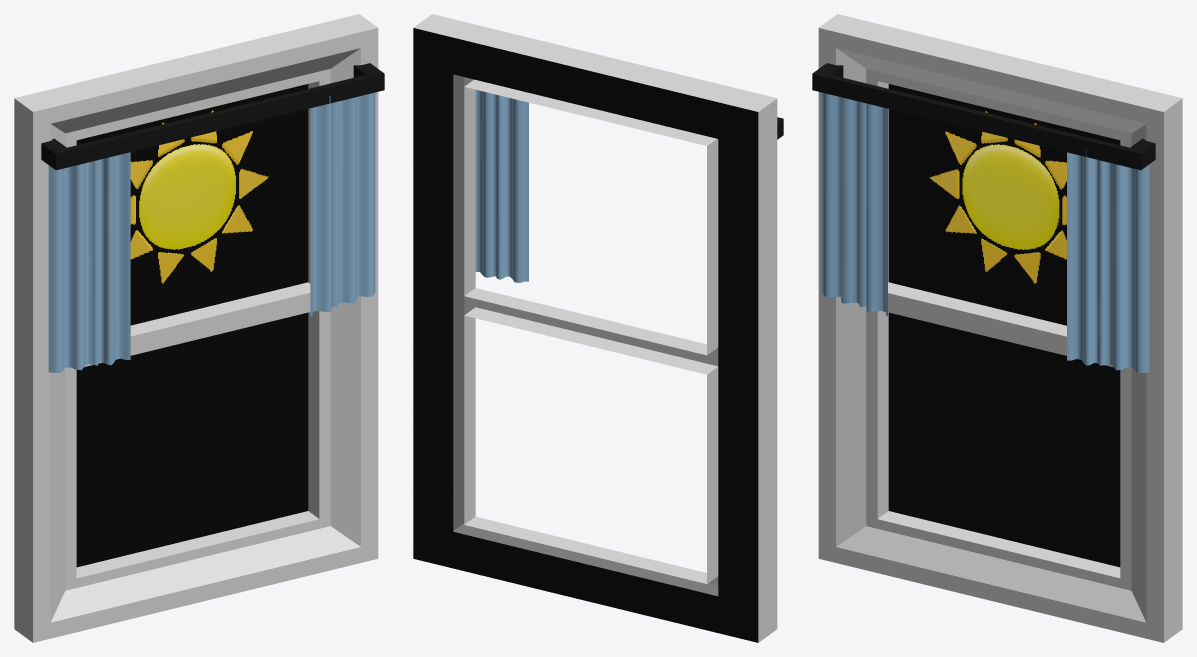
File: window-day-clear.glb
3 views of the same model, side by side, from view 1: azimuth 30°, elevation 25°; view 2: azimuth 150°, elevation 25°; view 3: azimuth 330°, elevation 25° (orthographic).
Parts seen in each view (by area): view 1: Cube; view 2: Cube; view 3: Cube.
Part boxes in pixels (x1,y1,x2,y2): Cube: [14, 14, 384, 642]; Cube: [413, 14, 783, 642]; Cube: [812, 14, 1182, 642].
Size of the model in its own units: 12.57 by 18.47 by 2.13.
Materials: 4 (1 with a texture image).
